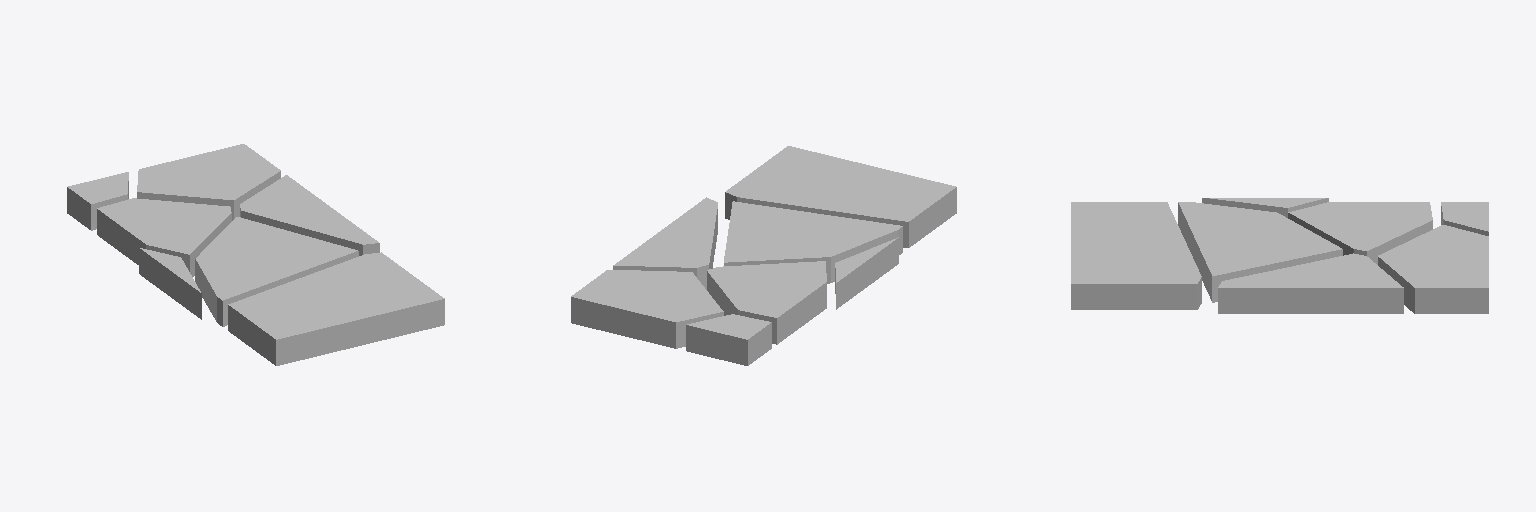
The model's file is voronoiPlane.obj.
The picture shows the model from 3 angles: view 1: azimuth 30°, elevation 25°; view 2: azimuth 150°, elevation 25°; view 3: azimuth 270°, elevation 25°; orthographic projection.
Visible parts, largest first — view 1: Plane_cell.012_Mesh.101, Plane_cell.007_Mesh.096, Plane_cell.010_Mesh.099, Plane_cell.009_Mesh.098, Plane_cell.011_Mesh.100, Plane_cell.013_Mesh.102, Plane_cell.008_Mesh.097; view 2: Plane_cell.012_Mesh.101, Plane_cell.009_Mesh.098, Plane_cell.007_Mesh.096, Plane_cell.010_Mesh.099, Plane_cell.011_Mesh.100, Plane_cell.008_Mesh.097, Plane_cell.013_Mesh.102; view 3: Plane_cell.012_Mesh.101, Plane_cell.007_Mesh.096, Plane_cell.011_Mesh.100, Plane_cell.009_Mesh.098, Plane_cell.010_Mesh.099, Plane_cell.008_Mesh.097, Plane_cell.013_Mesh.102.
Boxes of the visible parts, box(x1,y1,x2,y2) form: Plane_cell.012_Mesh.101: box(228, 252, 444, 365); Plane_cell.007_Mesh.096: box(195, 217, 358, 326); Plane_cell.010_Mesh.099: box(97, 198, 231, 276); Plane_cell.009_Mesh.098: box(137, 144, 280, 220); Plane_cell.011_Mesh.100: box(240, 175, 379, 255); Plane_cell.013_Mesh.102: box(139, 248, 201, 319); Plane_cell.008_Mesh.097: box(67, 172, 128, 230); Plane_cell.012_Mesh.101: box(725, 146, 956, 247); Plane_cell.009_Mesh.098: box(571, 270, 723, 348); Plane_cell.007_Mesh.096: box(724, 201, 902, 283); Plane_cell.010_Mesh.099: box(707, 261, 826, 344); Plane_cell.011_Mesh.100: box(613, 197, 717, 289); Plane_cell.008_Mesh.097: box(686, 314, 771, 365); Plane_cell.013_Mesh.102: box(835, 237, 898, 309); Plane_cell.012_Mesh.101: box(1071, 202, 1201, 309); Plane_cell.007_Mesh.096: box(1178, 202, 1342, 302); Plane_cell.011_Mesh.100: box(1218, 253, 1403, 313); Plane_cell.009_Mesh.098: box(1378, 225, 1488, 313); Plane_cell.010_Mesh.099: box(1288, 202, 1432, 264); Plane_cell.008_Mesh.097: box(1441, 202, 1488, 235); Plane_cell.013_Mesh.102: box(1202, 198, 1328, 217).
Bounding box in the file's own units: 22 × 3 × 43.